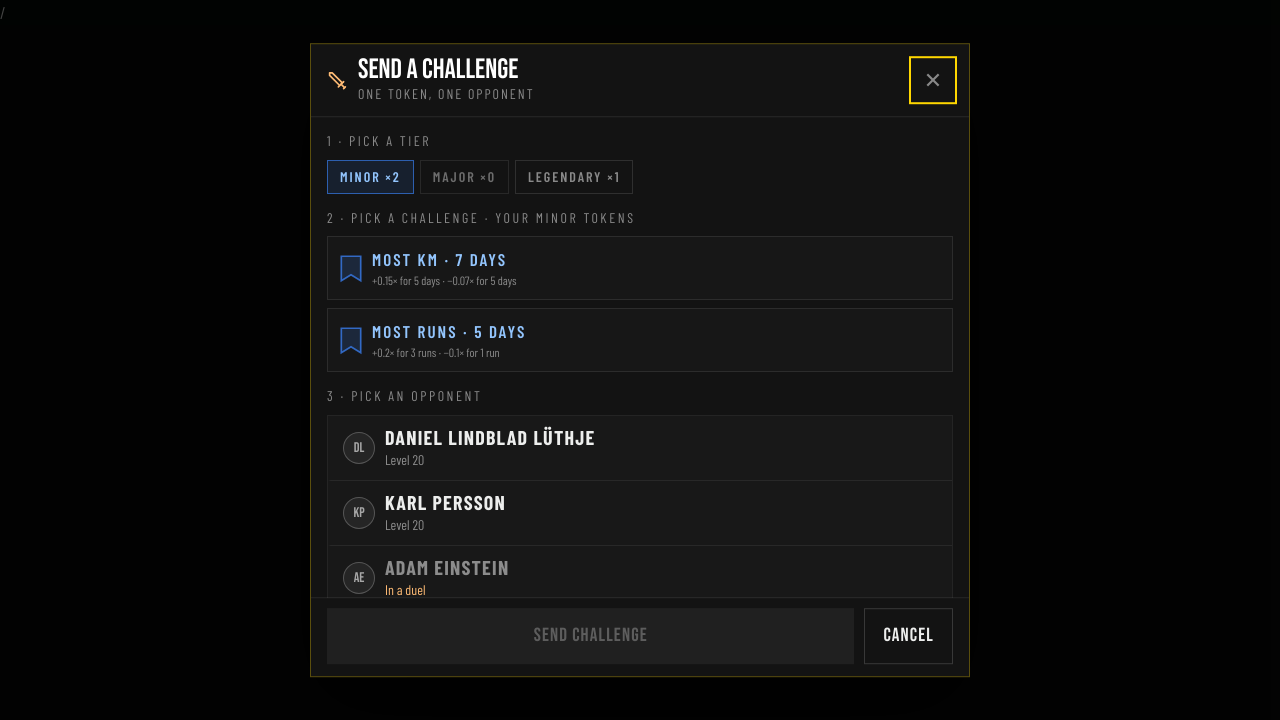
Scenario: the bet › the bet shows the stake of the chosen token, in the words of the cards
The width and height of the screenshot is (1280, 720).
Click the radio button labelled "Most km · 7 days +0.15× for 5 days · −0.07× for 5 days". click: (640, 268)
box: [327,236,953,300]
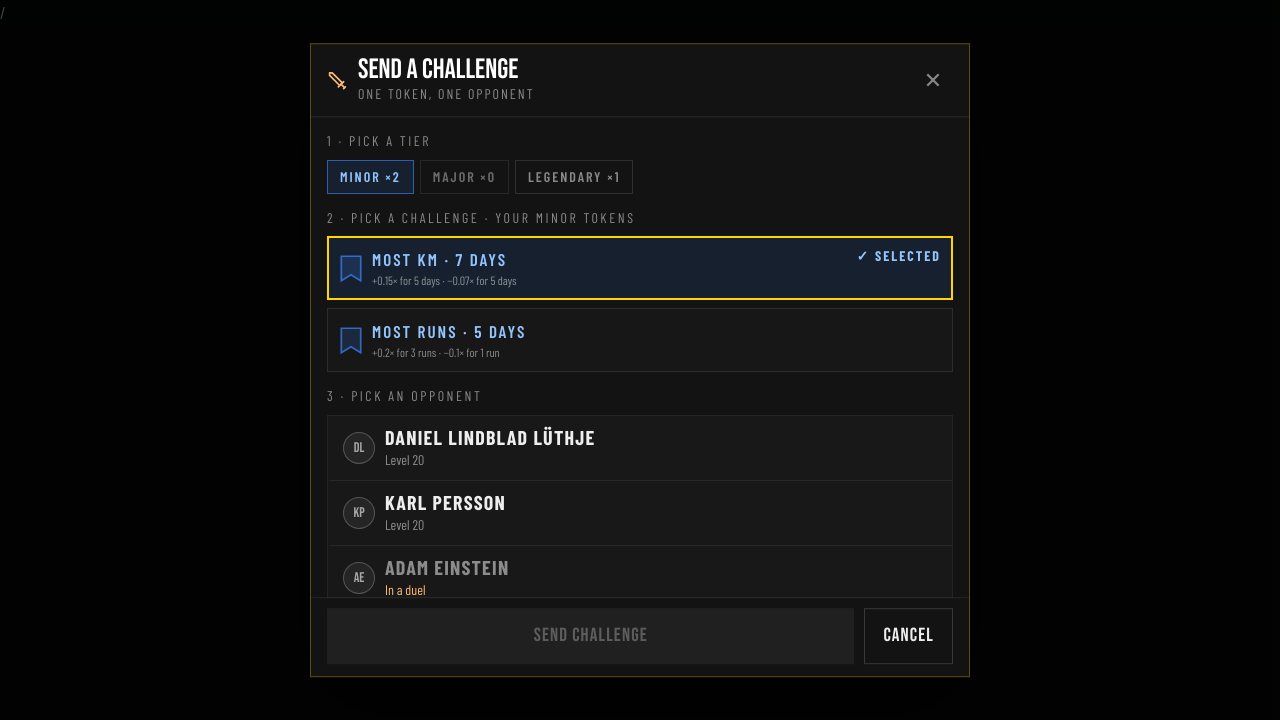
Click the radio button labelled "Most runs · 5 days +0.2× for 3 runs · −0.1× for 1 run". click: (640, 340)
box: [327,308,953,372]
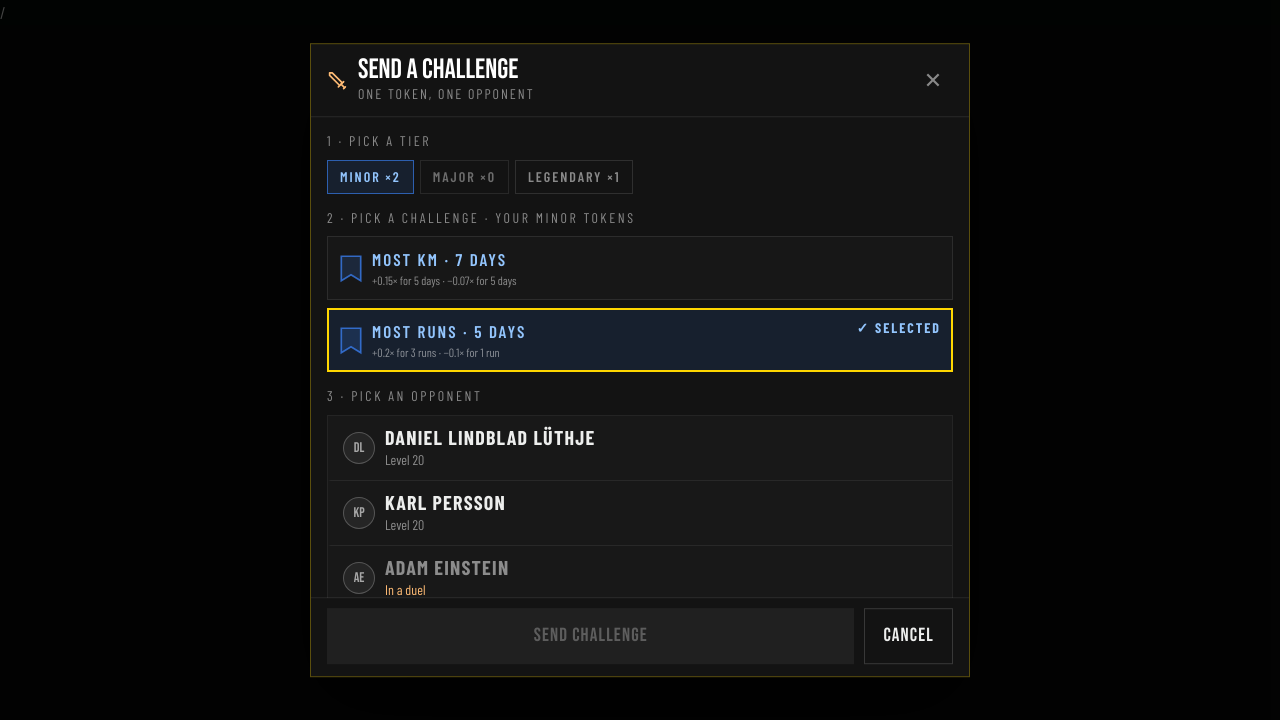
Click the button "Legendary ×1". click: (574, 177)
box: [515,160,633,194]
(page scrolled)
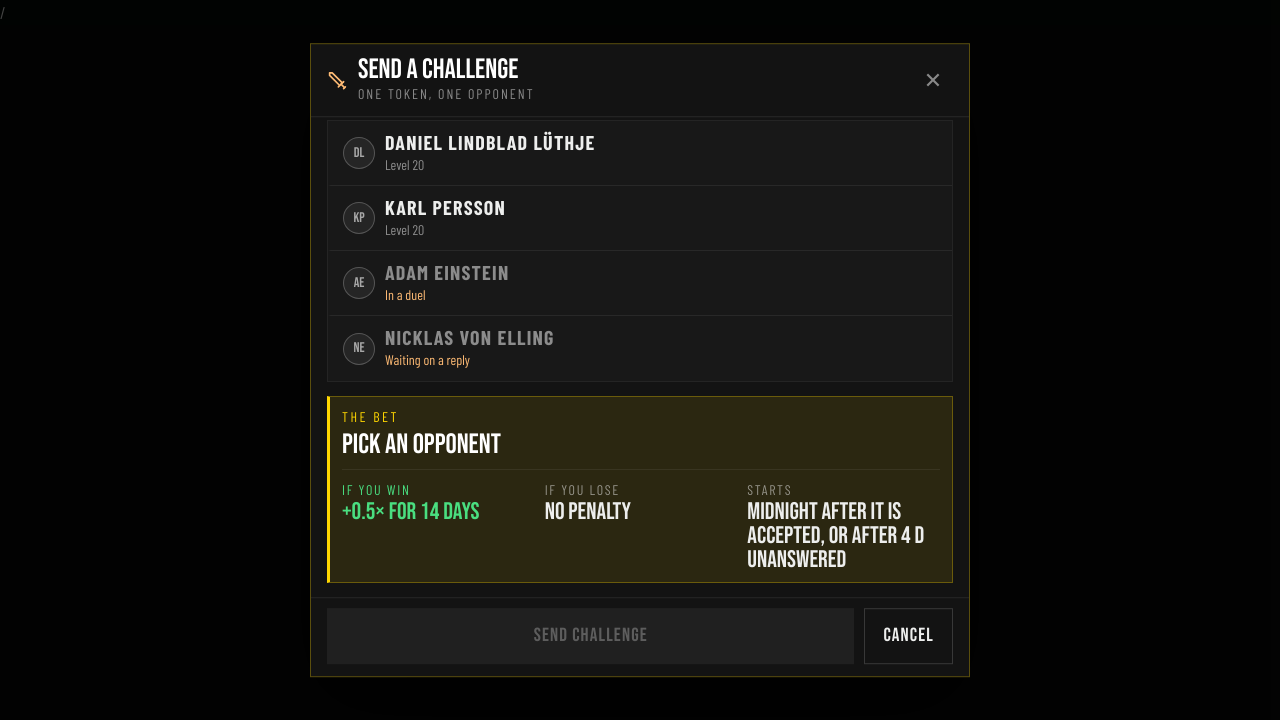
Expected: the text "+0.5× for 14 days" is shown, [342,498,479,526]
Expected: the text "No penalty" is shown, [545,498,631,526]
